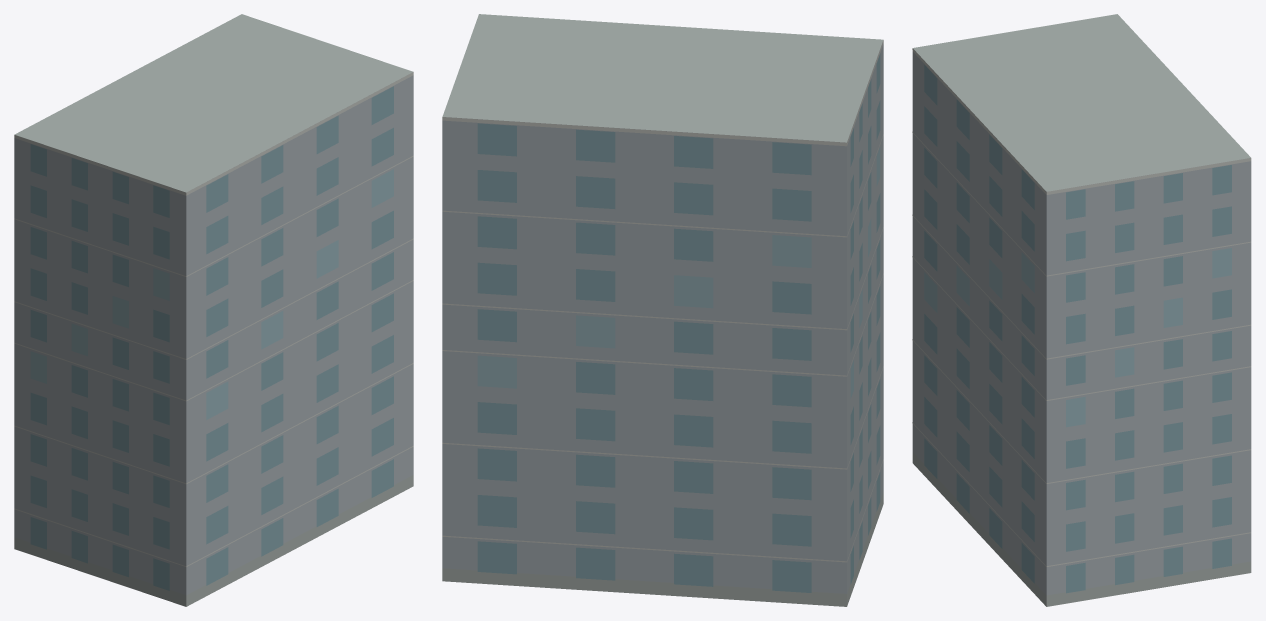
The model's file is residential-166a645e-323b-4912-8c27-cbf1165a0921.glb.
3 renders of one model, left to right at view 1: azimuth 30°, elevation 25°; view 2: azimuth 150°, elevation 25°; view 3: azimuth 270°, elevation 25°, orthographic. The views are drawn at different scales.
Visible parts, largest first — view 1: residential-166a645e-323b-4912-8c27-cbf1165a0921.tmp; view 2: residential-166a645e-323b-4912-8c27-cbf1165a0921.tmp; view 3: residential-166a645e-323b-4912-8c27-cbf1165a0921.tmp.
Boxes of the visible parts, x1,y1,x2,y2 form: residential-166a645e-323b-4912-8c27-cbf1165a0921.tmp: (14,14,413,606); residential-166a645e-323b-4912-8c27-cbf1165a0921.tmp: (442,14,883,606); residential-166a645e-323b-4912-8c27-cbf1165a0921.tmp: (912,14,1251,606).
Bounding box in the file's own units: 28.05 × 30.5 × 22.58.
